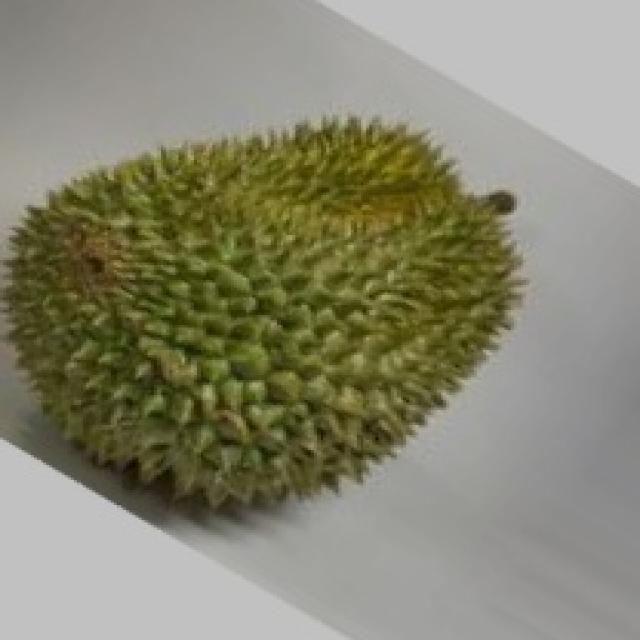fruit: (0, 220, 357, 595)
